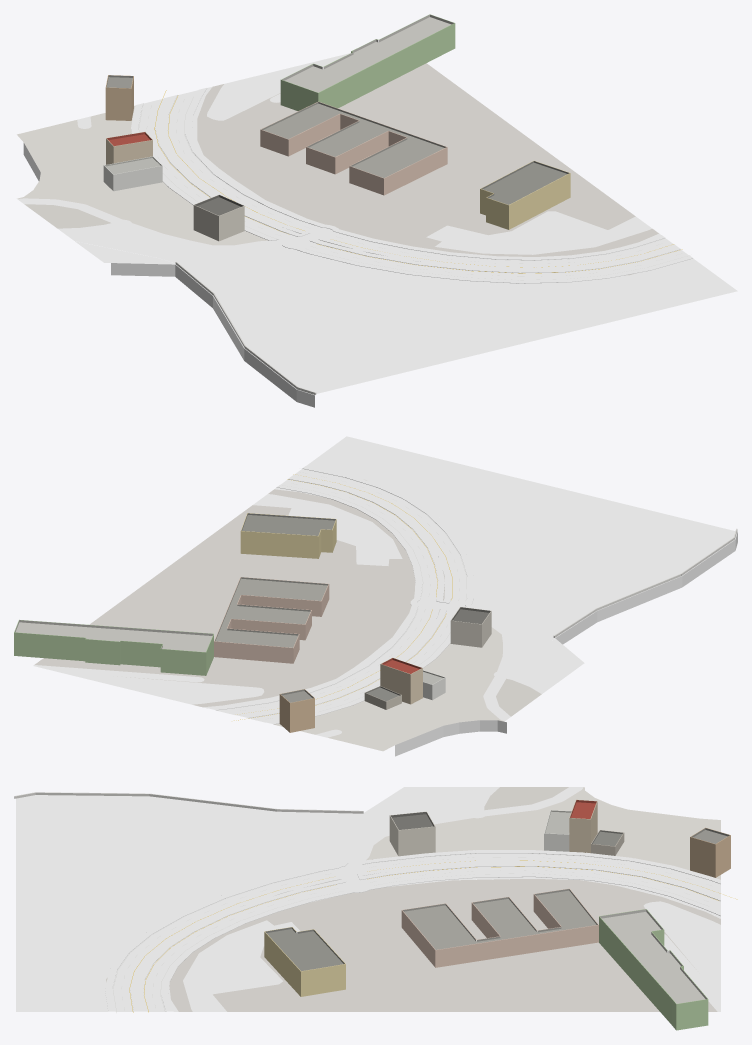
3 renders of one model, top to bottom at view 1: azimuth 30°, elevation 25°; view 2: azimuth 150°, elevation 25°; view 3: azimuth 270°, elevation 25°, orthographic. The views are drawn at different scales.
Parts seen in each view (by area): view 1: ground, grass, walls, asphalt, roofs, sidewalk, concrete, coast, markings, sand; view 2: ground, grass, walls, asphalt, roofs, sidewalk, concrete, coast, markings, sand, stone; view 3: grass, ground, asphalt, walls, roofs, sidewalk, concrete, markings, stone, sand.
Boxes of the visible parts, bbox=[...] form: ground: bbox=[17, 63, 658, 275]; grass: bbox=[207, 53, 737, 392]; walls: bbox=[103, 23, 570, 241]; asphalt: bbox=[17, 90, 688, 280]; roofs: bbox=[104, 14, 569, 215]; sidewalk: bbox=[131, 88, 693, 283]; concrete: bbox=[65, 86, 660, 394]; coast: bbox=[23, 143, 314, 407]; markings: bbox=[138, 90, 689, 280]; sand: bbox=[75, 241, 174, 264]; ground: bbox=[34, 479, 541, 751]; grass: bbox=[58, 436, 728, 704]; walls: bbox=[14, 520, 491, 732]; asphalt: bbox=[33, 469, 548, 737]; roofs: bbox=[14, 513, 491, 702]; sidewalk: bbox=[208, 466, 473, 724]; concrete: bbox=[203, 487, 737, 708]; coast: bbox=[395, 531, 737, 756]; markings: bbox=[232, 469, 466, 720]; sand: bbox=[551, 638, 584, 682]; stone: bbox=[553, 528, 737, 637]; grass: bbox=[16, 802, 720, 1011]; ground: bbox=[106, 787, 720, 1011]; asphalt: bbox=[112, 787, 720, 1011]; walls: bbox=[264, 802, 730, 1030]; roofs: bbox=[264, 799, 730, 1004]; sidewalk: bbox=[105, 850, 720, 1011]; concrete: bbox=[16, 787, 720, 1011]; markings: bbox=[113, 853, 737, 1012]; stone: bbox=[14, 792, 363, 813]; sand: bbox=[364, 787, 463, 812].
Size of what is drawn, in the model's own units: 206 by 18.26 by 257.
